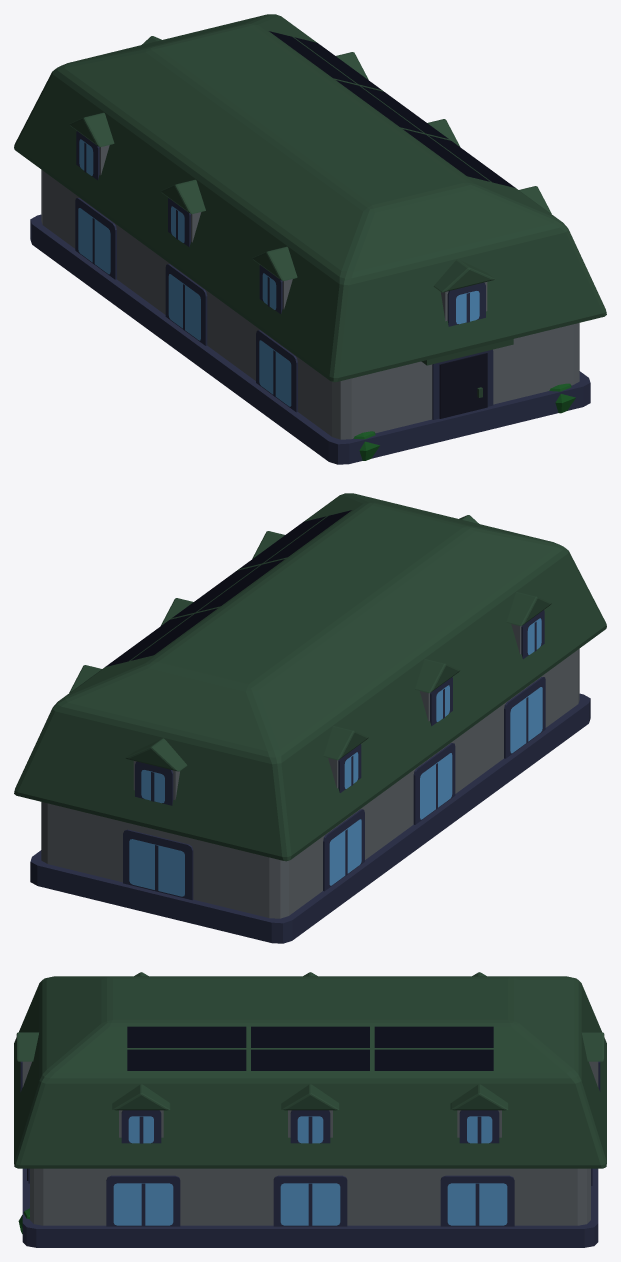
Rendered from house-1x2-1f-mansard-d-solar.glb.
3 views of the same model, one above another, from view 1: azimuth 30°, elevation 25°; view 2: azimuth 150°, elevation 25°; view 3: azimuth 270°, elevation 25° (orthographic). The views are drawn at different scales.
Visible parts, largest first — view 1: house-1x2-1f-mansard-d-solar; view 2: house-1x2-1f-mansard-d-solar; view 3: house-1x2-1f-mansard-d-solar.
Part boxes in pixels (x1,y1,x2,y2): house-1x2-1f-mansard-d-solar: [14, 14, 606, 464]; house-1x2-1f-mansard-d-solar: [14, 493, 606, 943]; house-1x2-1f-mansard-d-solar: [14, 972, 606, 1247].
Bounding box in the file's own units: 0.9876 × 0.7026 × 1.99.
Materials: 1 (1 with a texture image).
